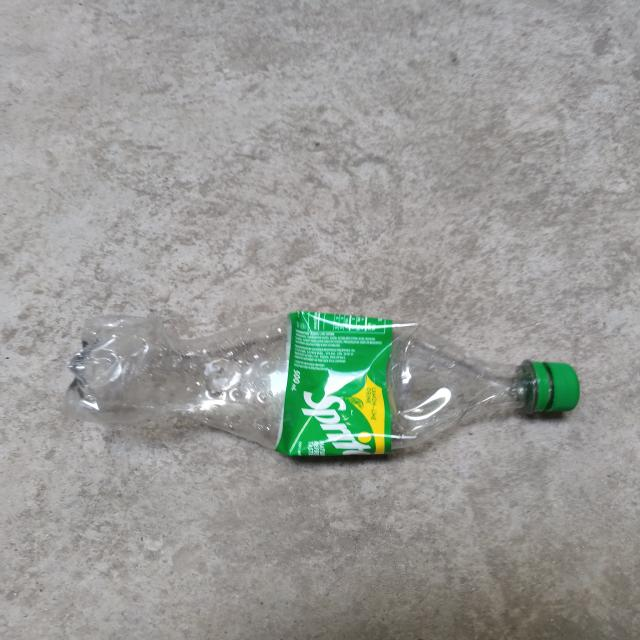Bottle: (65, 311, 579, 457)
